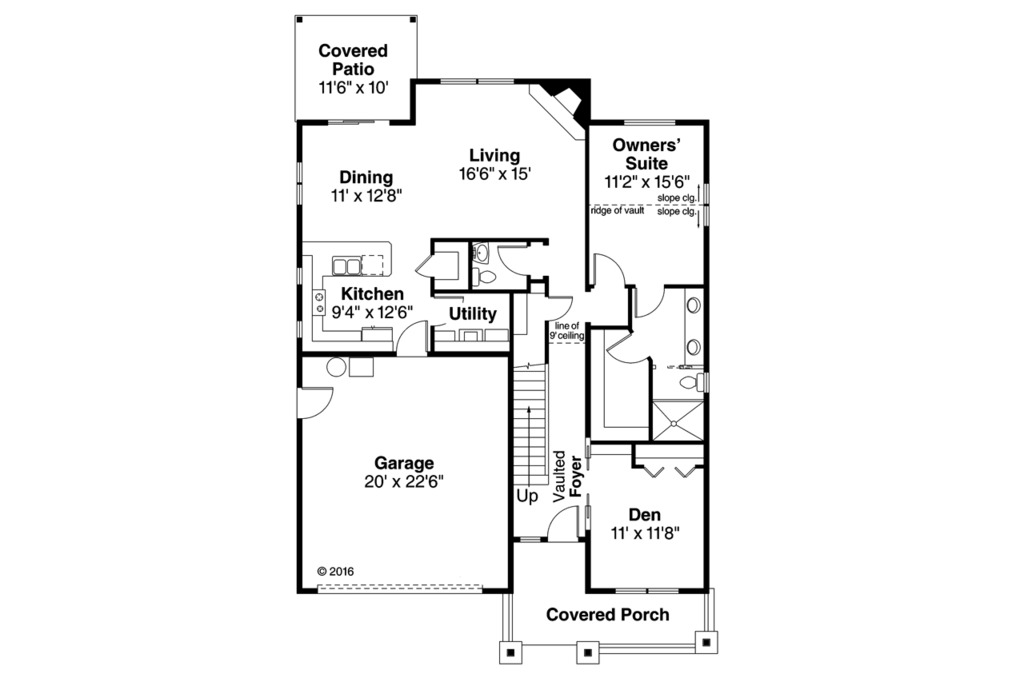door: (291, 379, 337, 420), (606, 331, 651, 369), (393, 321, 432, 361), (588, 246, 624, 287), (546, 504, 582, 542), (499, 241, 533, 278), (633, 281, 666, 316), (543, 291, 575, 322), (416, 253, 440, 279)
large_sink: (678, 370, 709, 397), (472, 267, 498, 290)
small_sink: (678, 282, 708, 371), (471, 233, 497, 267)
stairs: (506, 341, 552, 497)
twin_sink: (328, 250, 373, 285)
window: (619, 116, 684, 134), (440, 77, 515, 86), (295, 161, 309, 206), (296, 262, 307, 285)
